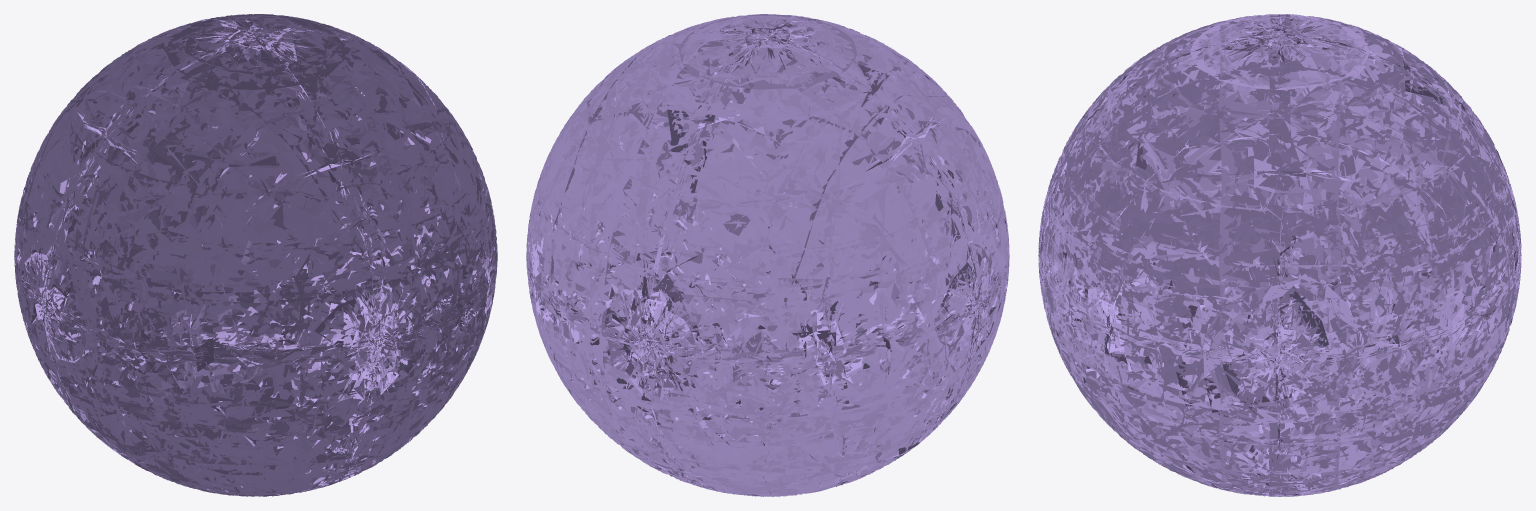
File: sys-sd-instrument.glb
3 views of the same model, side by side, from view 1: azimuth 30°, elevation 25°; view 2: azimuth 150°, elevation 25°; view 3: azimuth 270°, elevation 25° (orthographic).
Visible parts, largest first — view 1: TS-sd-instrument-1702, TS-sd-instrument-1700, TS-sd-instrument-1691, TS-sd-instrument-1701, TS-sd-instrument-1698, TS-sd-instrument-1693, TS-sd-instrument-1692; view 2: TS-sd-instrument-1702, TS-sd-instrument-1700, TS-sd-instrument-1691, TS-sd-instrument-1693, TS-sd-instrument-1698, TS-sd-instrument-1701; view 3: TS-sd-instrument-1702, TS-sd-instrument-1700, TS-sd-instrument-1691, TS-sd-instrument-1698, TS-sd-instrument-1693, TS-sd-instrument-1701.
Boxes of the visible parts, x1,y1,x2,y2 form: TS-sd-instrument-1702: (14, 14, 497, 496); TS-sd-instrument-1700: (14, 14, 497, 496); TS-sd-instrument-1691: (14, 19, 497, 495); TS-sd-instrument-1701: (14, 16, 497, 491); TS-sd-instrument-1698: (14, 14, 497, 496); TS-sd-instrument-1693: (15, 17, 496, 494); TS-sd-instrument-1692: (18, 22, 494, 493); TS-sd-instrument-1702: (526, 14, 1009, 496); TS-sd-instrument-1700: (526, 14, 1009, 496); TS-sd-instrument-1691: (526, 15, 1009, 494); TS-sd-instrument-1693: (527, 17, 1008, 495); TS-sd-instrument-1698: (526, 14, 1008, 496); TS-sd-instrument-1701: (526, 15, 1009, 494); TS-sd-instrument-1702: (1039, 14, 1521, 496); TS-sd-instrument-1700: (1039, 14, 1520, 496); TS-sd-instrument-1691: (1038, 15, 1521, 496); TS-sd-instrument-1698: (1039, 14, 1519, 495); TS-sd-instrument-1693: (1038, 15, 1521, 494); TS-sd-instrument-1701: (1038, 17, 1521, 496).
Size of the model in its own units: 2 by 2 by 2.
